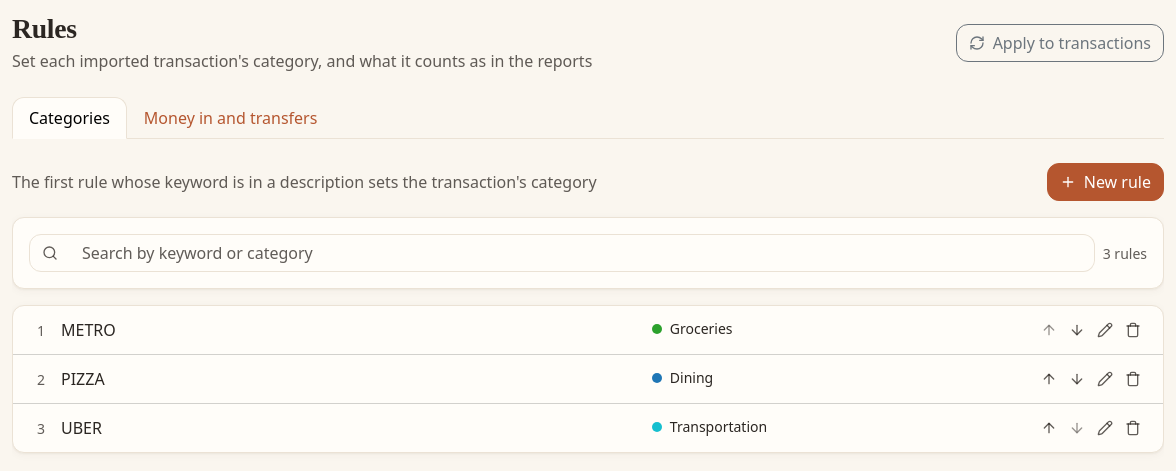
RuleListComponent › tabs › switches to the flow rules and keeps the choice in the URL
Step 1. Click the tab "Money in and transfers" → {"x": 231, "y": 118}, box [127,97,334,139]
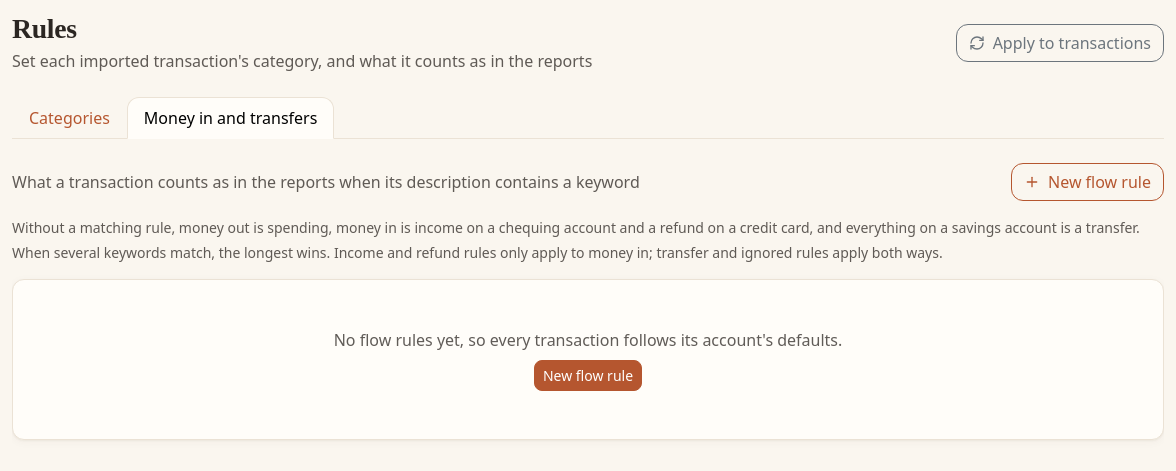
Result: the panel with id "rules-panel-categories" is gone
